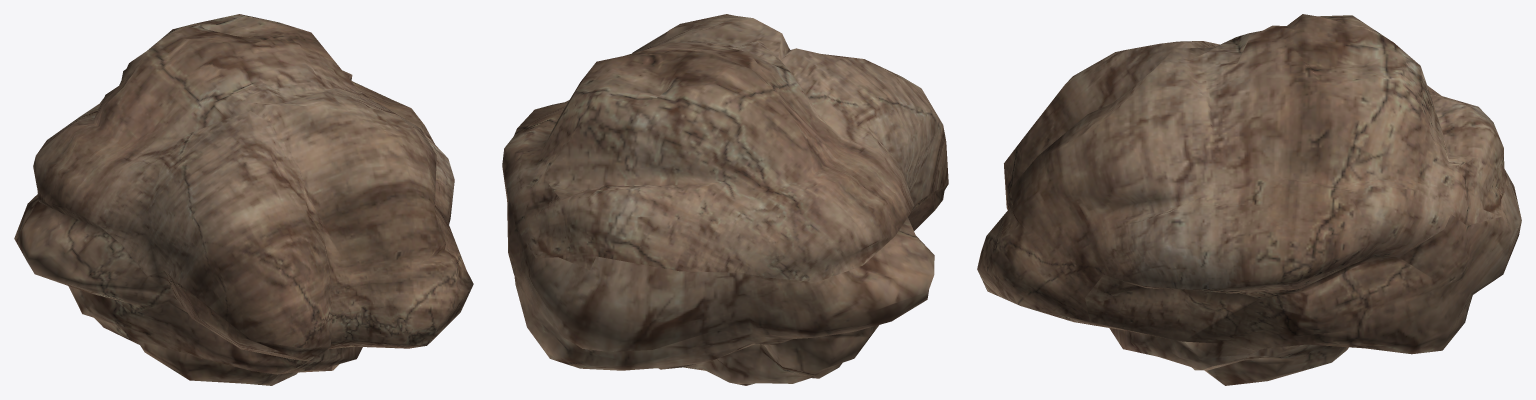
File: rock_small04_projected.dae
3 views of the same model, side by side, from view 1: azimuth 30°, elevation 25°; view 2: azimuth 150°, elevation 25°; view 3: azimuth 270°, elevation 25° (orthographic). The views are drawn at different scales.
Parts seen in each view (by area): view 1: Mesh02; view 2: Mesh02; view 3: Mesh02.
Boxes of the visible parts, x1,y1,x2,y2 form: Mesh02: [14, 14, 473, 385]; Mesh02: [502, 14, 948, 385]; Mesh02: [977, 14, 1521, 385].
Size of the model in its own units: 2.93 by 2.3 by 3.29.
